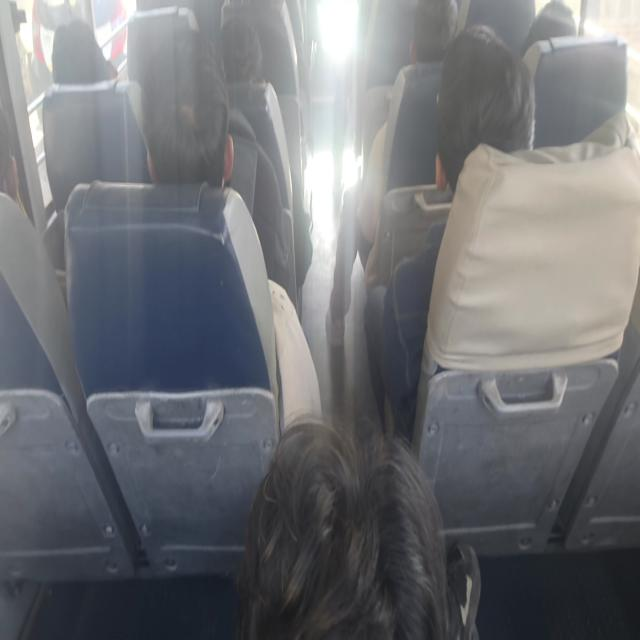person: (363, 22, 536, 439), (237, 417, 476, 638), (325, 0, 458, 348), (134, 28, 297, 310), (136, 30, 235, 186), (51, 18, 118, 84), (219, 16, 264, 84)
